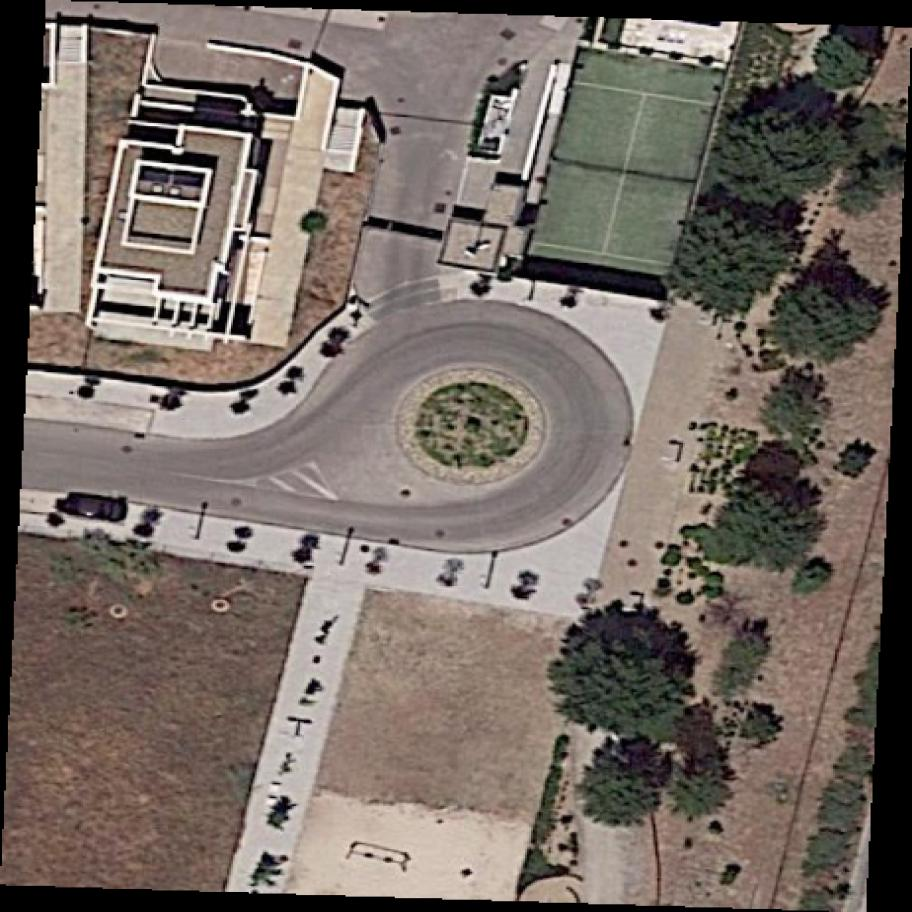small-vehicle: (51, 488, 132, 530)
